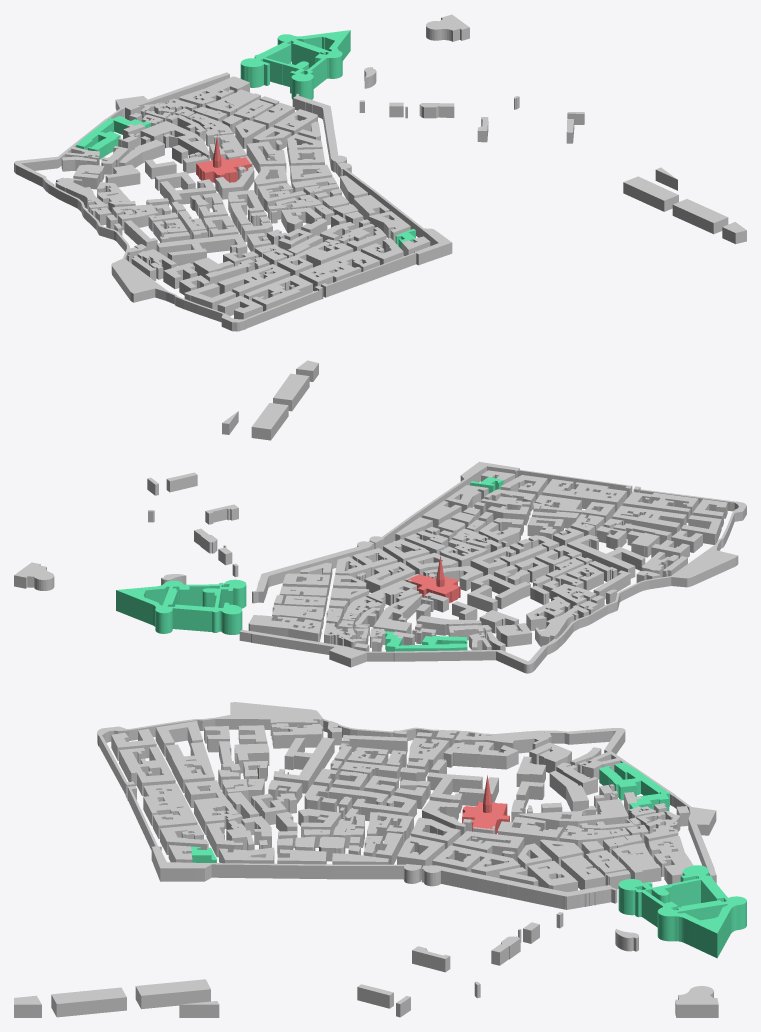
File: lavillear.glb
3 views of the same model, one above another, from view 1: azimuth 30°, elevation 25°; view 2: azimuth 150°, elevation 25°; view 3: azimuth 270°, elevation 25° (orthographic). The views are drawn at different scales.
Size of the model in its own units: 7.37 by 0.5631 by 7.49.
